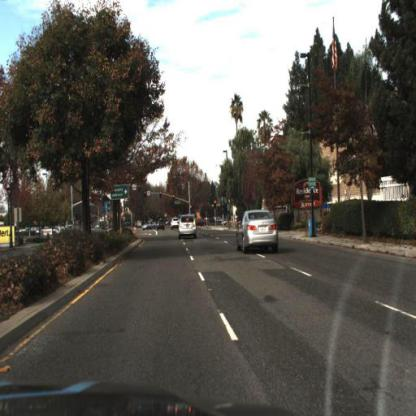car: (235, 203, 279, 256), (178, 213, 200, 241)
